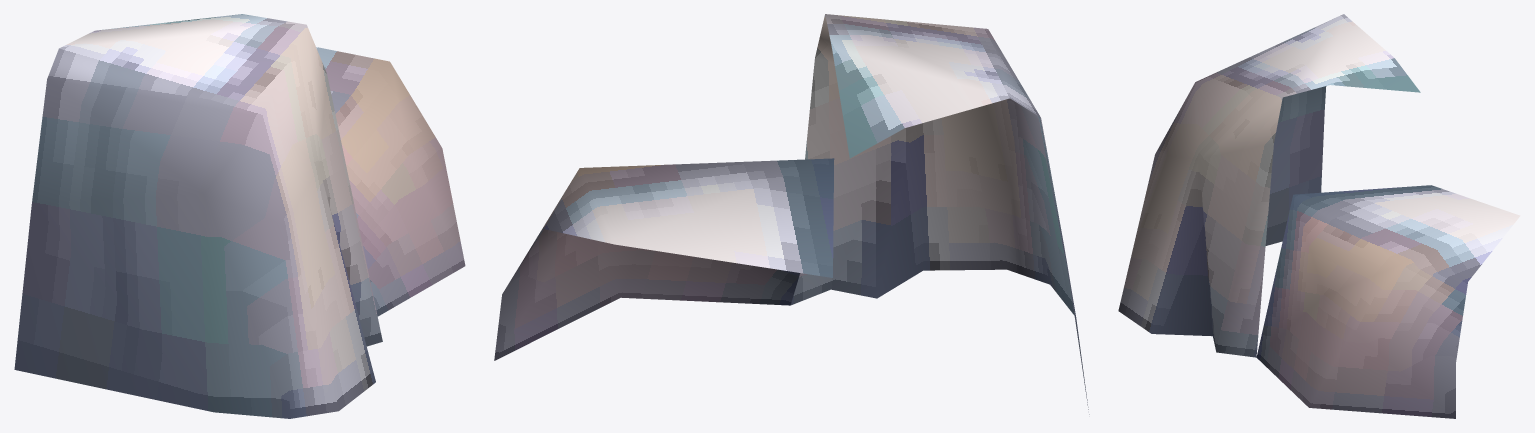
File: fg_stoneE.dae
3 views of the same model, side by side, from view 1: azimuth 30°, elevation 25°; view 2: azimuth 150°, elevation 25°; view 3: azimuth 270°, elevation 25° (orthographic). The views are drawn at different scales.
Parts seen in each view (by area): view 1: fg_stoneE; view 2: fg_stoneE; view 3: fg_stoneE.
Boxes of the visible parts, left/top/right/bottom form: fg_stoneE: left=14, top=14, right=465, bottom=418; fg_stoneE: left=494, top=14, right=1089, bottom=414; fg_stoneE: left=1118, top=14, right=1520, bottom=418.
Bounding box in the file's own units: 33.67 × 20.15 × 30.49.
1 material, 1 textured.
